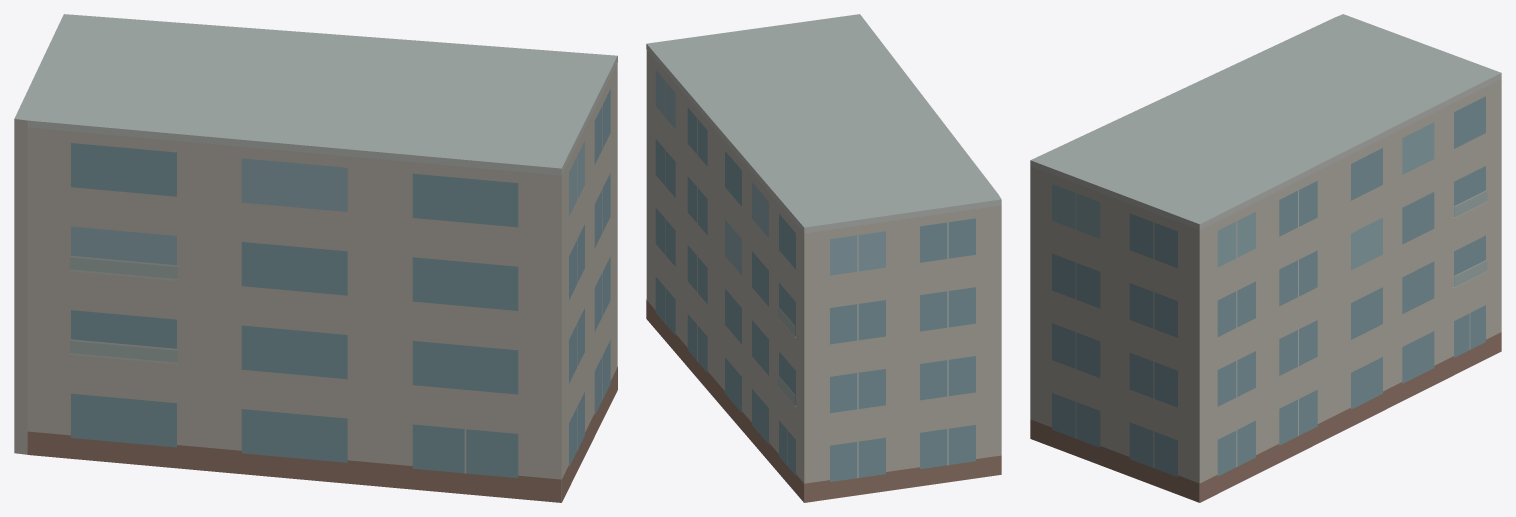
File: survey-upis-32619546.glb
3 renders of one model, left to right at view 1: azimuth 30°, elevation 25°; view 2: azimuth 150°, elevation 25°; view 3: azimuth 270°, elevation 25°, orthographic. The views are drawn at different scales.
Parts seen in each view (by area): view 1: survey-upis-32619546.tmp; view 2: survey-upis-32619546.tmp; view 3: survey-upis-32619546.tmp.
Part boxes in pixels (x1=…): survey-upis-32619546.tmp: x1=14, y1=14, x2=617, y2=502; survey-upis-32619546.tmp: x1=646, y1=14, x2=1001, y2=502; survey-upis-32619546.tmp: x1=1030, y1=14, x2=1501, y2=502.
Bounding box in the file's own units: 18.95 × 11.7 × 17.94.
